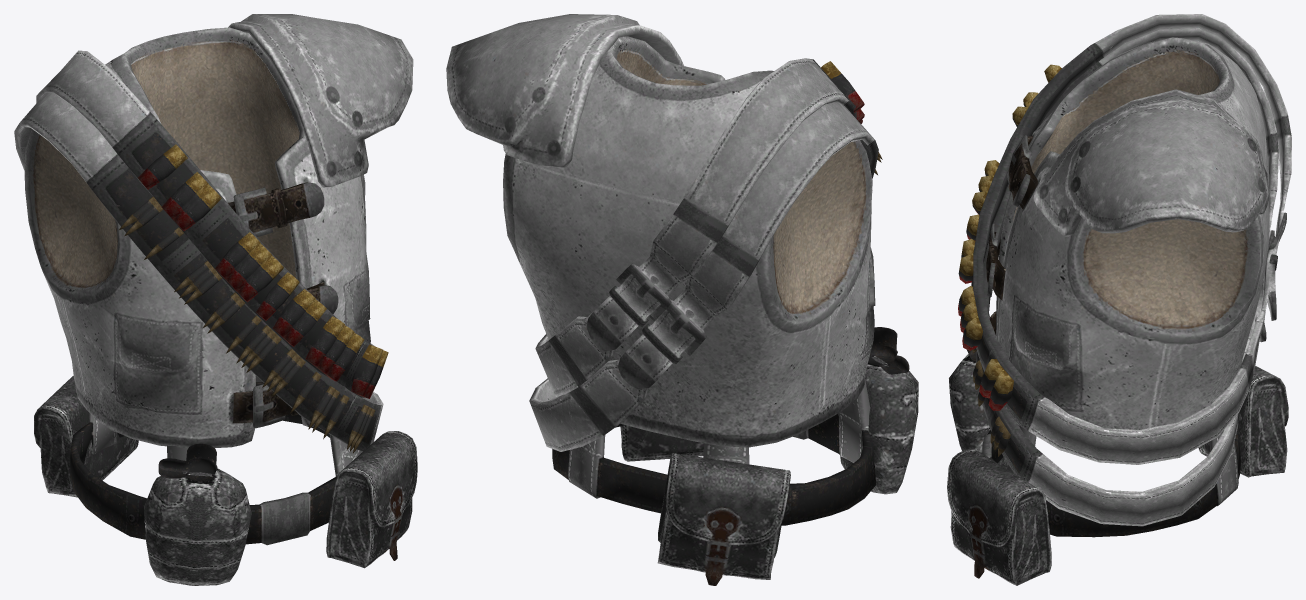
Rendered from SurvivorMale_Armor_Western_LOD0.glb.
3 views of the same model, side by side, from view 1: azimuth 30°, elevation 25°; view 2: azimuth 150°, elevation 25°; view 3: azimuth 270°, elevation 25° (orthographic). The views are drawn at different scales.
Visible parts, largest first — view 1: Hoodie; view 2: Hoodie; view 3: Hoodie.
Boxes of the visible parts, left/top/right/bottom form: Hoodie: left=14, top=14, right=417, bottom=585; Hoodie: left=446, top=14, right=918, bottom=585; Hoodie: left=947, top=14, right=1291, bottom=585.
Bounding box in the file's own units: 0.5331 × 0.6603 × 0.4399.
1 material, 1 textured.
